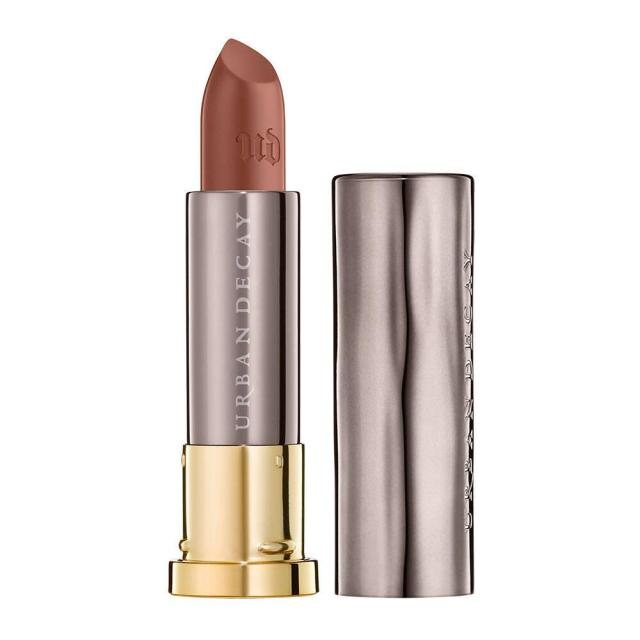lipstick: (150, 18, 342, 618)
